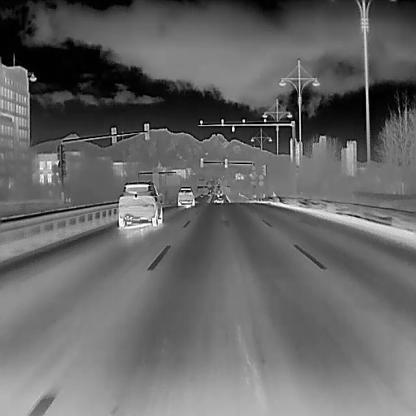car: (116, 181, 164, 228), (177, 186, 194, 206), (216, 196, 224, 204), (200, 194, 204, 196), (208, 192, 210, 196)
